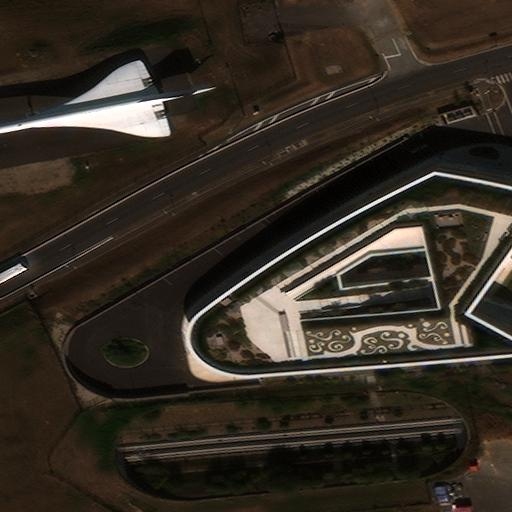Medium Civil Transport: (0, 59, 217, 137)
